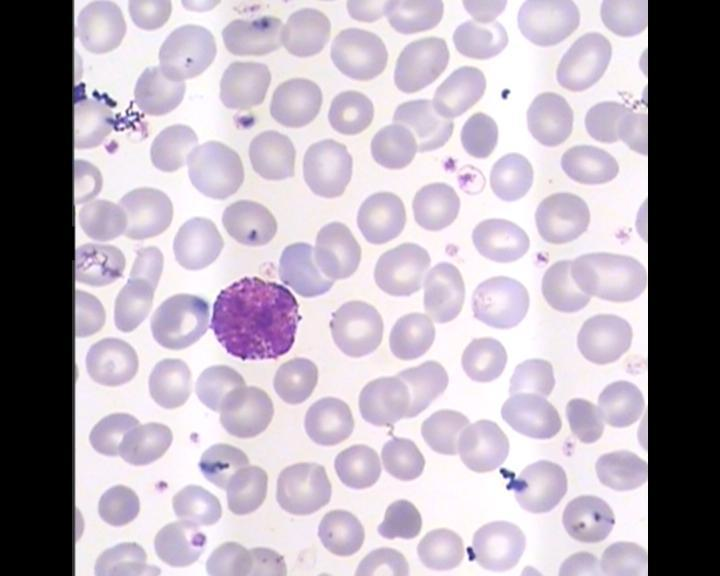baso: (207, 271, 308, 363)
